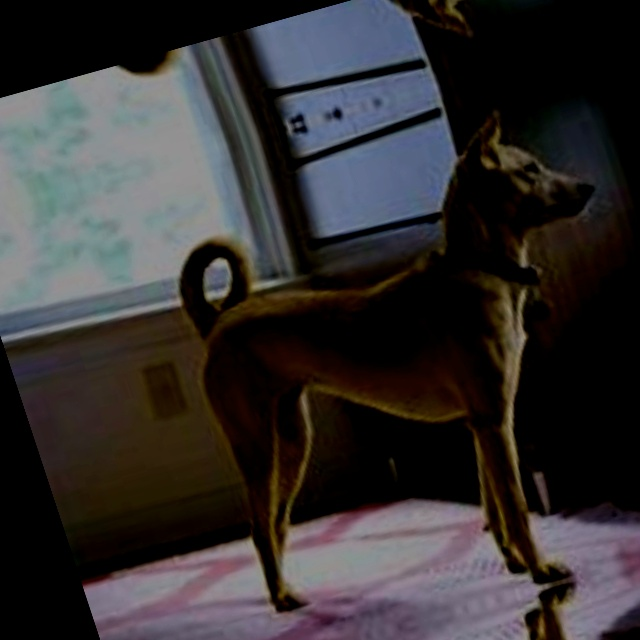dog: (131, 86, 640, 612), (84, 0, 566, 133), (293, 581, 640, 640)
